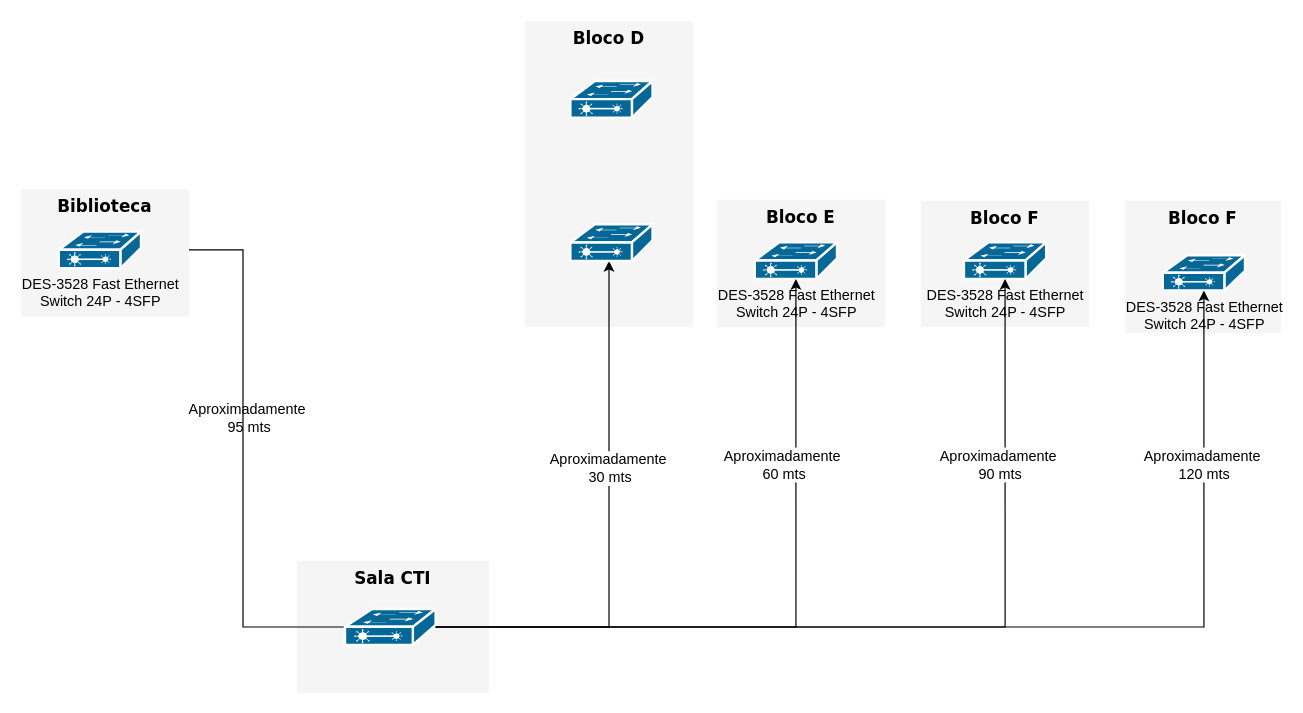
This 1303x713 diagram has some shape labels left out. Each missing label, with the centre of its shape:
Switch Dlink DGS 1210 24P 4SFP: the point at 611,242
Switch HP 5130-45G-4SFP Modelo: JG976A: the point at 389,626
TP-link T1600G-28PS (TL-SG2424P) 4SFP Jetstream: the point at 611,98
